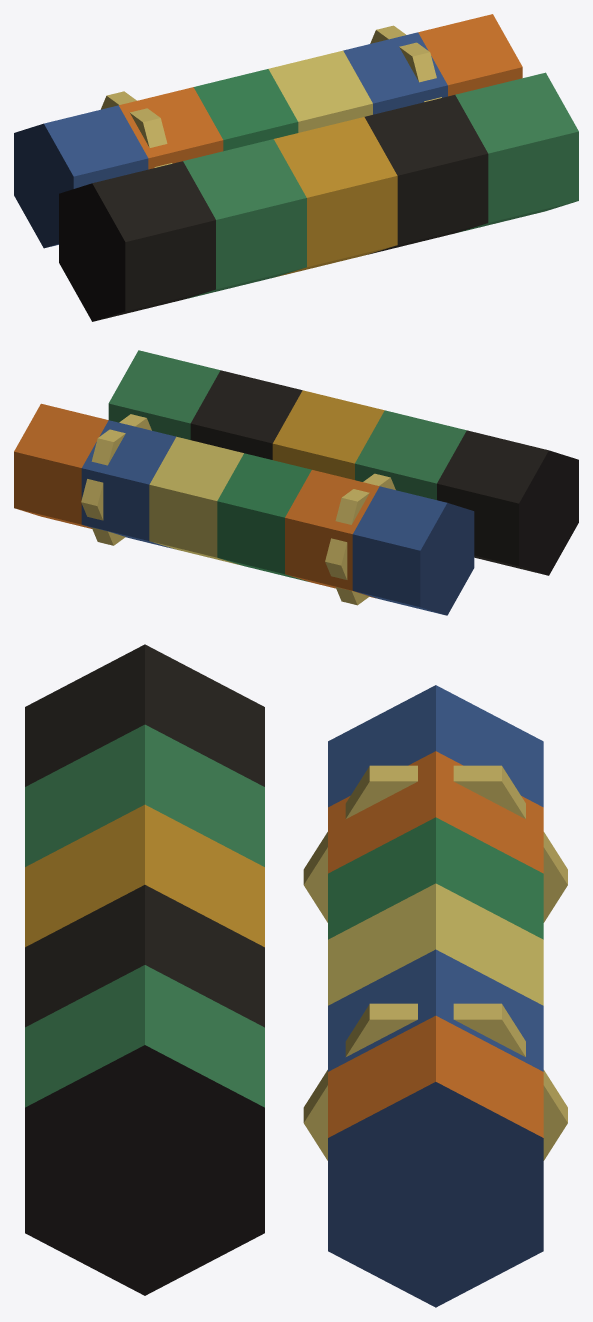
The model's file is kente-throw-roll-10.glb.
3 renders of one model, top to bottom at view 1: azimuth 30°, elevation 25°; view 2: azimuth 150°, elevation 25°; view 3: azimuth 270°, elevation 25°, orthographic. The views are drawn at different scales.
Visible parts, largest first — view 1: kente_throw_roll_10; view 2: kente_throw_roll_10; view 3: kente_throw_roll_10.
Part boxes in pixels (x1,y1,x2,y2): kente_throw_roll_10: (14,14,578,321); kente_throw_roll_10: (14,350,578,615); kente_throw_roll_10: (25,644,567,1307).
Bounding box in the file's own units: 0.8111 × 0.2235 × 0.4381.
